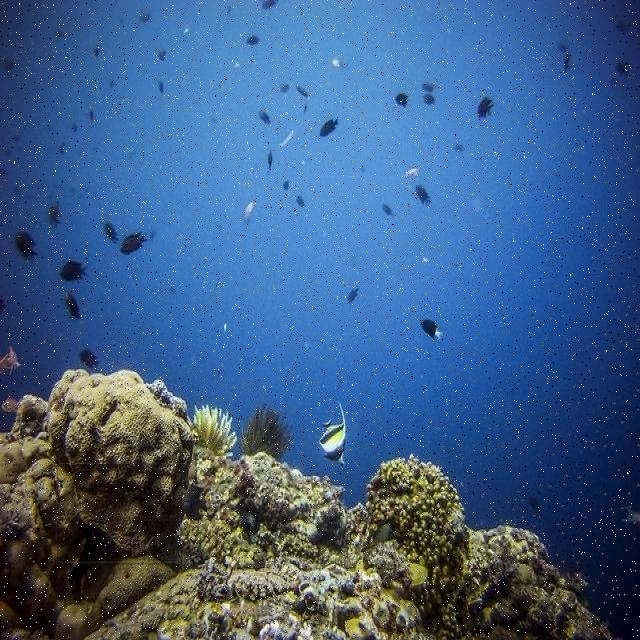aquatic plants: (239, 401, 291, 457)
fish: (320, 401, 348, 468), (16, 230, 40, 262), (120, 228, 149, 254), (59, 259, 90, 282), (63, 290, 82, 321), (421, 319, 444, 343), (477, 95, 495, 120), (79, 348, 99, 370), (319, 117, 340, 137)
reefs: (45, 366, 196, 548), (345, 455, 469, 636), (194, 403, 236, 456)
